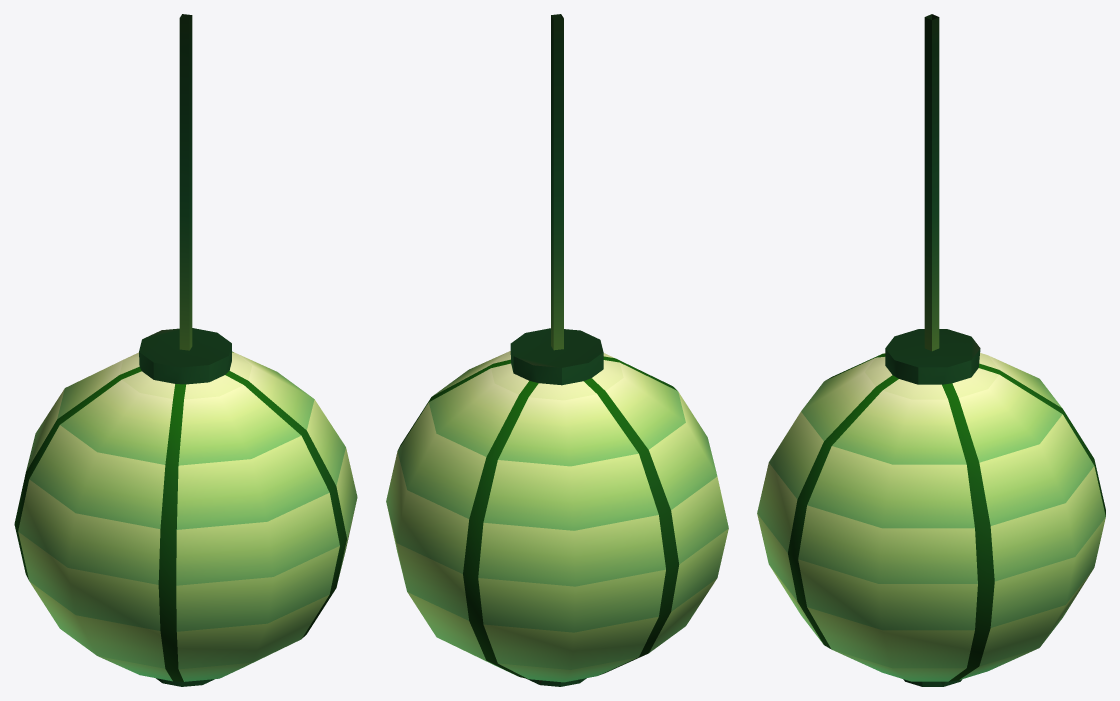
Rendered from Lantern_A_02.FBX.
The picture shows the model from 3 angles, left to right: view 1: azimuth 30°, elevation 25°; view 2: azimuth 150°, elevation 25°; view 3: azimuth 270°, elevation 25°; orthographic projection.
Parts seen in each view (by area): view 1: Lantern_A_02Light, Lantern_A_02; view 2: Lantern_A_02Light, Lantern_A_02; view 3: Lantern_A_02Light, Lantern_A_02.
Part boxes in pixels (x1,y1,x2,y2): Lantern_A_02Light: [14, 351, 357, 681]; Lantern_A_02: [139, 14, 231, 686]; Lantern_A_02Light: [386, 351, 728, 682]; Lantern_A_02: [510, 14, 603, 686]; Lantern_A_02Light: [757, 353, 1105, 681]; Lantern_A_02: [885, 14, 980, 686].
Bounding box in the file's own units: 45.33 × 98.1 × 47.28.
1 material, 1 textured.
